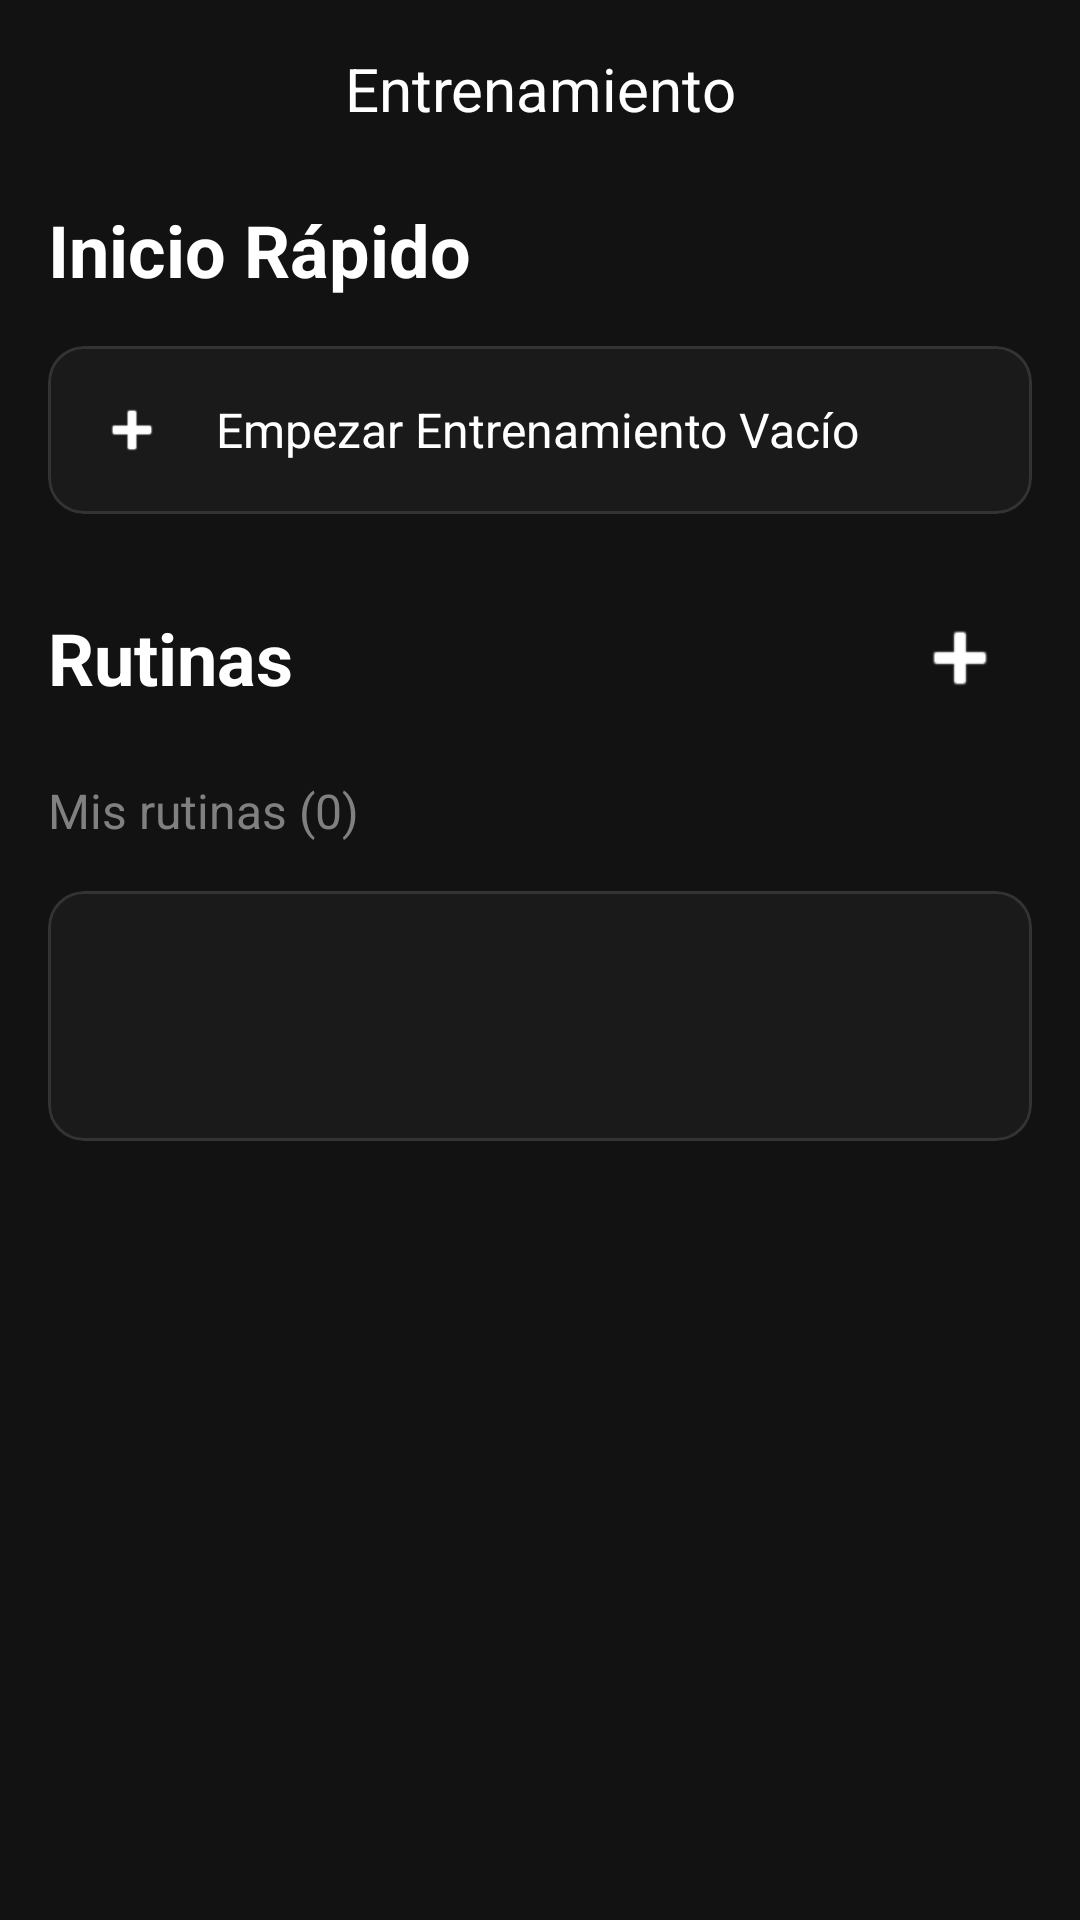

Screen size 1080w x 1920h. Icon name, then its center in pixels as [x,y]:
add: [132,430]
Añadir nueva rutina: [960,658]
